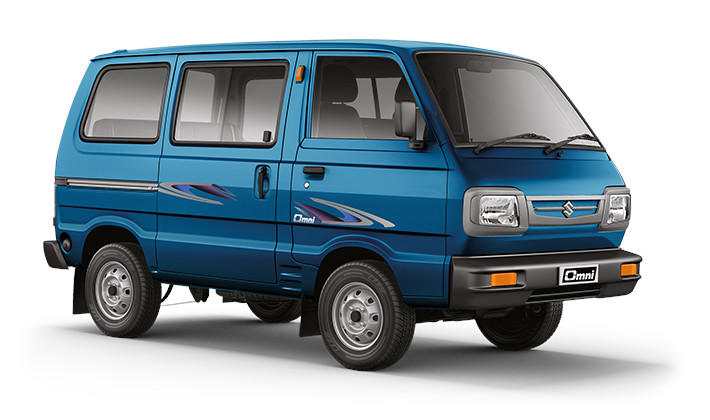van: (41, 37, 646, 371)
